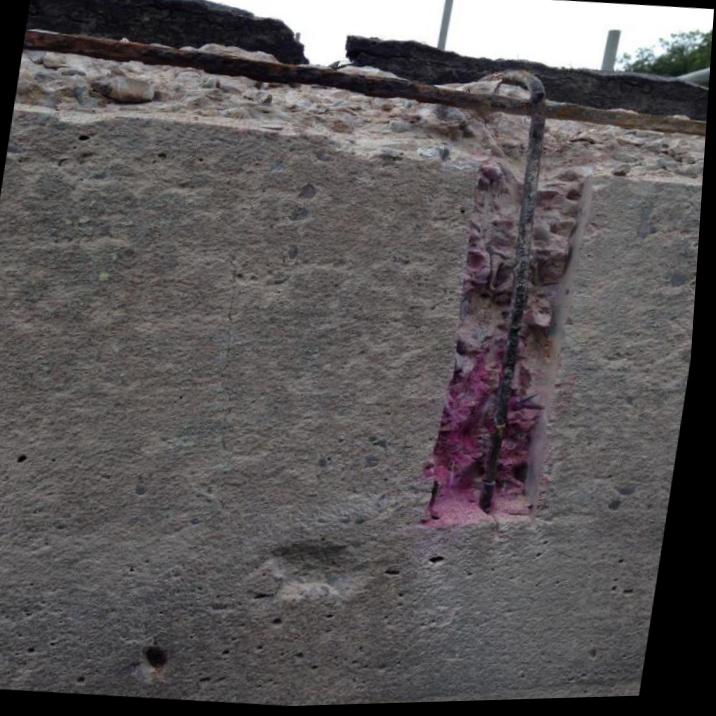damage: (16, 0, 711, 532)
